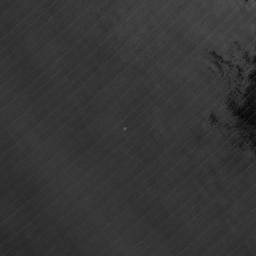Target: (122, 126, 128, 132)
